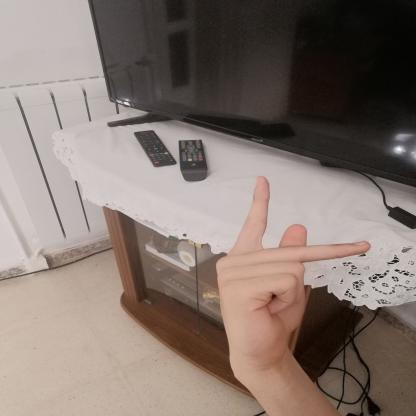DHAA: (202, 166, 386, 374)
